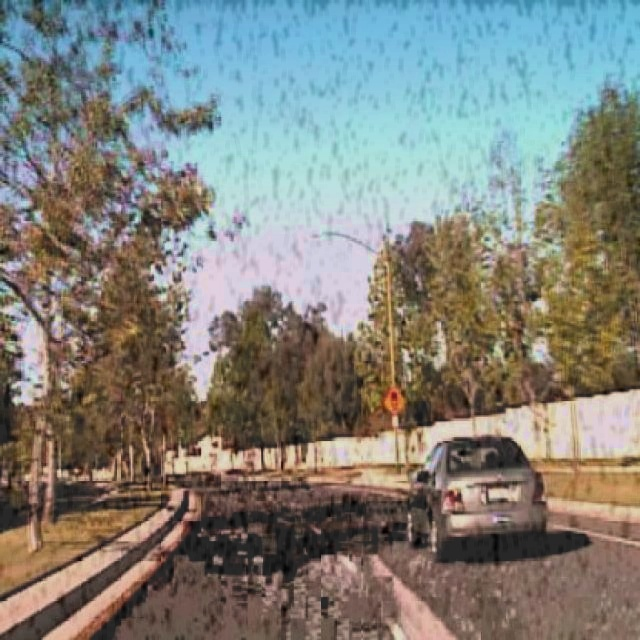signalAhead: (382, 385, 406, 416)
